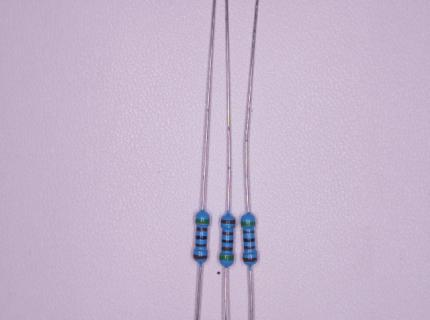Black band: (222, 239, 233, 244), (195, 236, 207, 240), (243, 239, 254, 242)
Brown band: (221, 219, 236, 224), (193, 254, 207, 259), (244, 257, 257, 262), (222, 231, 233, 236), (196, 228, 207, 232), (221, 247, 232, 251), (244, 246, 255, 250), (195, 244, 206, 247), (243, 231, 254, 234)
Green band: (220, 255, 233, 261), (196, 219, 209, 224), (242, 221, 255, 226)
